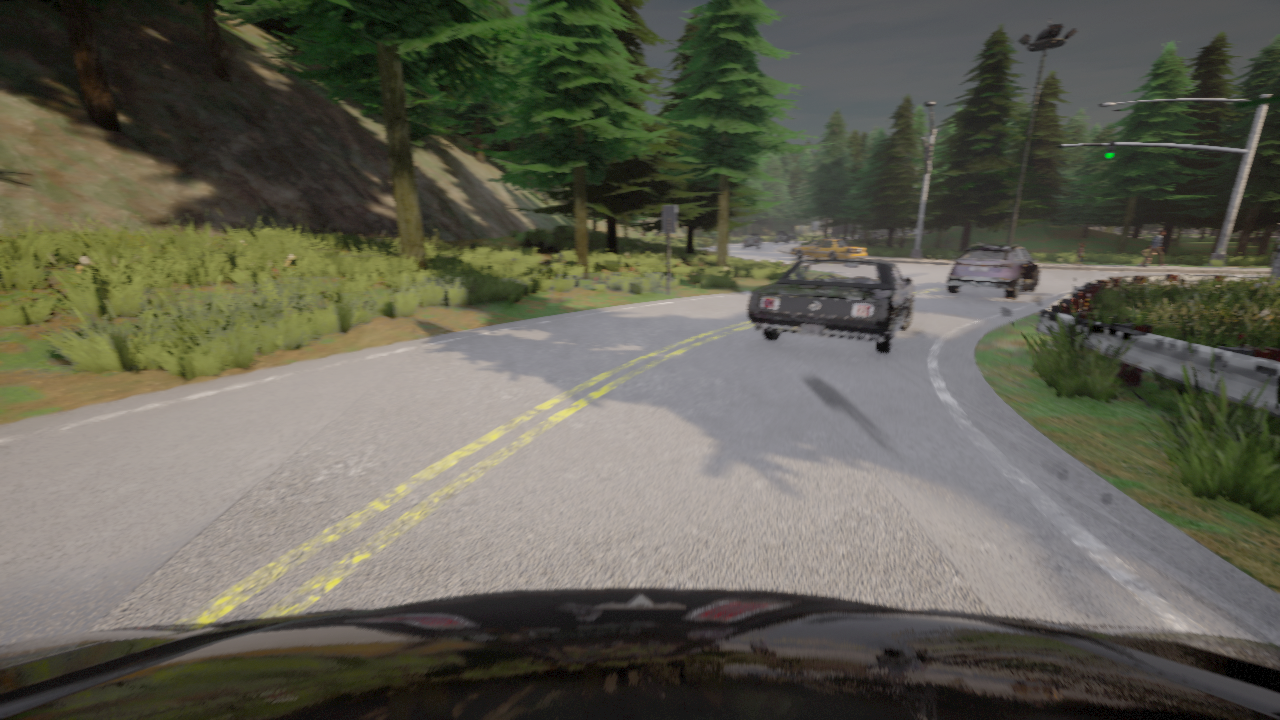cyclist: (0, 588, 1279, 719), (747, 259, 913, 353), (945, 244, 1039, 298), (790, 237, 866, 259), (774, 230, 797, 243), (742, 234, 761, 249), (855, 232, 884, 238)
pedestrian: (1140, 230, 1165, 267), (1137, 246, 1151, 266), (1072, 244, 1084, 265)
